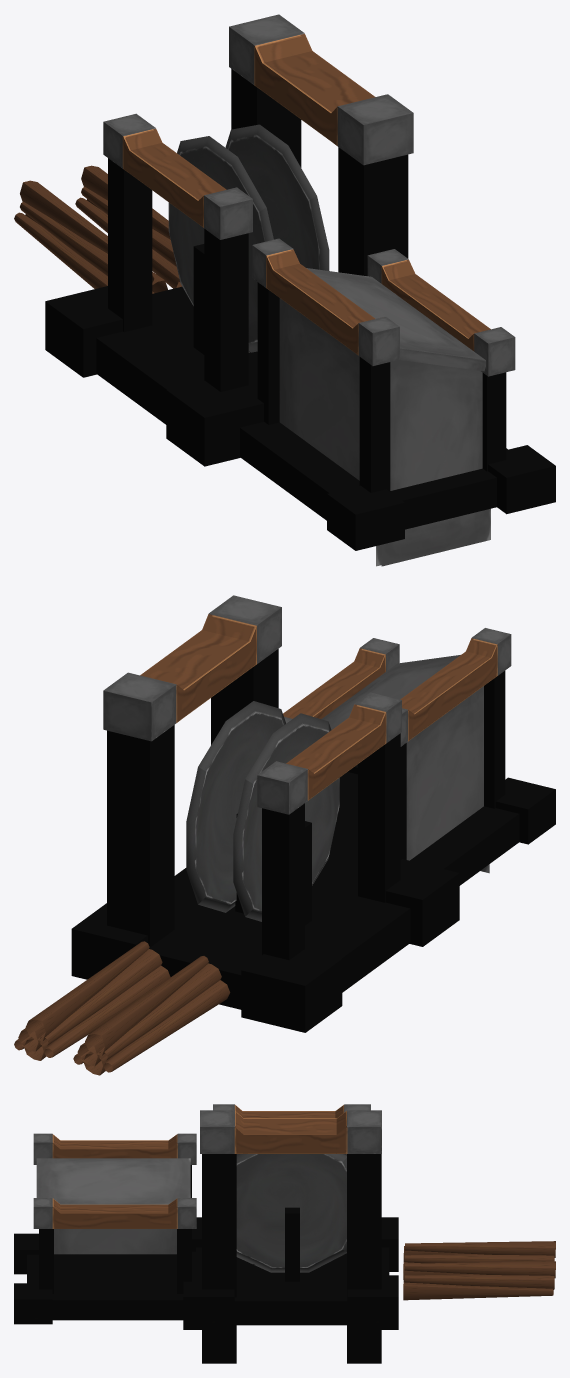
The model's file is Lumber Mill 5.FBX.
3 renders of one model, top to bottom at view 1: azimuth 30°, elevation 25°; view 2: azimuth 150°, elevation 25°; view 3: azimuth 270°, elevation 25°, orthographic. The views are drawn at different scales.
Visible parts, largest first — view 1: Box573, Box515, Box575; view 2: Box573, Box515, Box575; view 3: Box573, Box575, Box515.
Boxes of the visible parts, x1=… form: Box573: x1=45, y1=14, x2=555, y2=566; Box515: x1=14, y1=180, x2=167, y2=293; Box575: x1=75, y1=165, x2=181, y2=288; Box573: x1=71, y1=595, x2=555, y2=1032; Box515: x1=73, y1=956, x2=230, y2=1075; Box575: x1=14, y1=941, x2=170, y2=1060; Box573: x1=14, y1=1104, x2=398, y2=1363; Box575: x1=403, y1=1261, x2=555, y2=1300; Box515: x1=403, y1=1241, x2=555, y2=1279.
Size of the model in its own units: 54.02 by 75.2 by 155.
